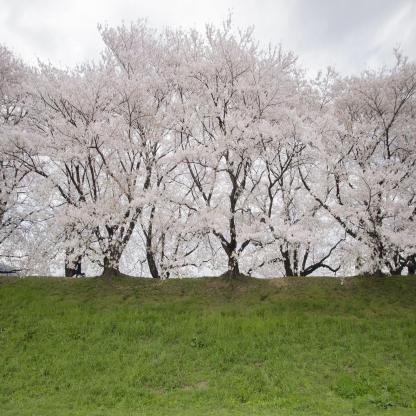Someiyoshino: (1, 2, 415, 300)
